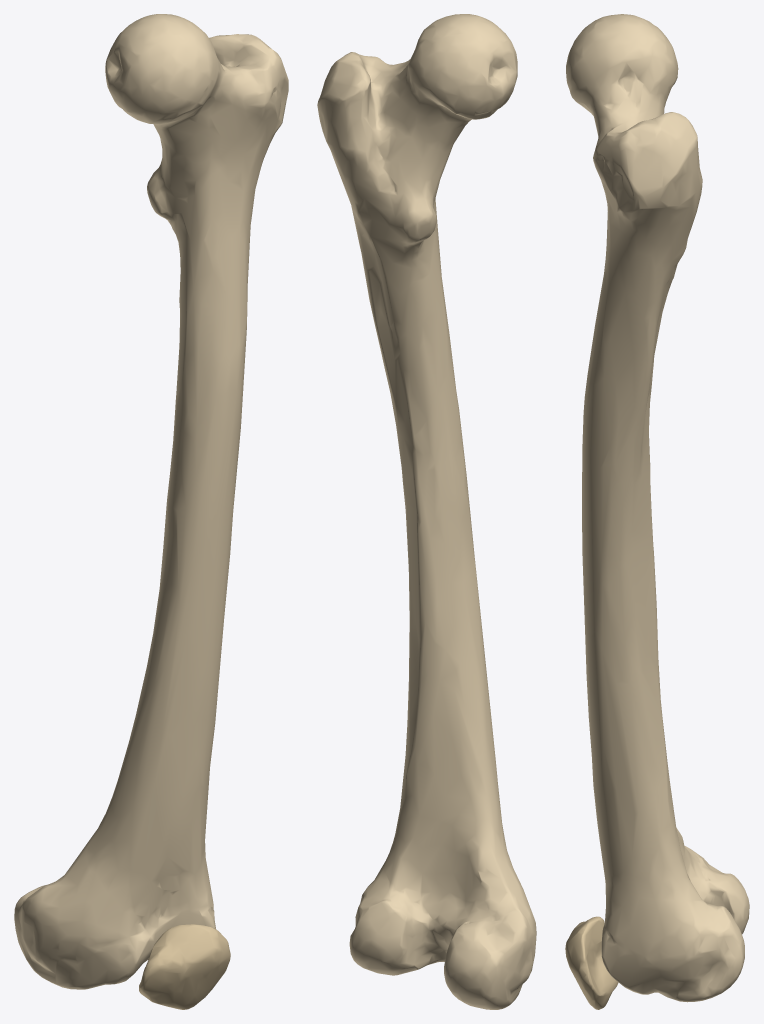
The model's file is l-femur.glb.
The picture shows the model from 3 angles, left to right: view 1: azimuth 30°, elevation 25°; view 2: azimuth 150°, elevation 25°; view 3: azimuth 270°, elevation 25°; orthographic projection. The views are drawn at different scales.
Visible parts, largest first — view 1: left-femur, left-patella; view 2: left-femur; view 3: left-femur, left-patella.
Part boxes in pixels (left/top/right/bottom): left-femur: left=14, top=14, right=288, bottom=989; left-patella: left=139, top=924, right=230, bottom=1009; left-femur: left=317, top=14, right=536, bottom=1009; left-femur: left=566, top=14, right=749, bottom=1002; left-patella: left=565, top=916, right=618, bottom=1009.
Size of the model in its own units: 0.2782 by 1.12 by 0.1894.
